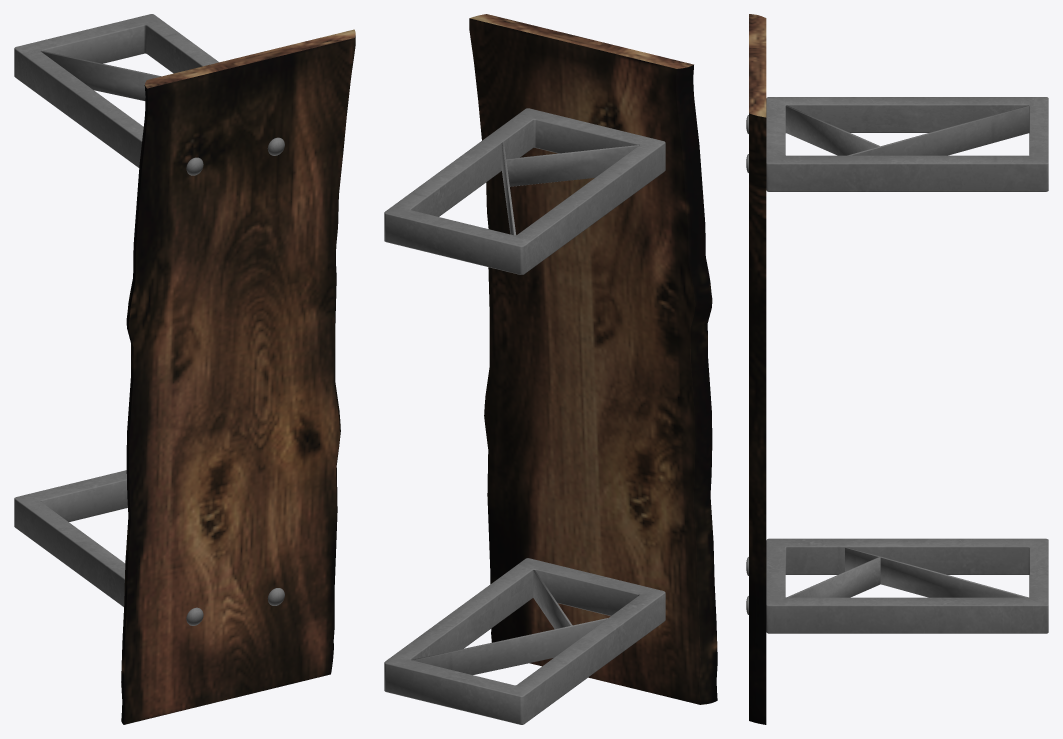
File: Table LOFT Brutal N130624.obj
The picture shows the model from 3 angles, left to right: view 1: azimuth 30°, elevation 25°; view 2: azimuth 150°, elevation 25°; view 3: azimuth 270°, elevation 25°; orthographic projection.
Parts seen in each view (by area): view 1: Box003, Object001; view 2: Box003, Object001; view 3: Object001, Box003.
Part boxes in pixels (left/top/right/bottom): Box003: left=121, top=29, right=355, bottom=724; Object001: left=14, top=14, right=284, bottom=625; Box003: left=469, top=14, right=717, bottom=704; Object001: left=384, top=108, right=665, bottom=724; Object001: left=746, top=97, right=1048, bottom=633; Box003: left=749, top=14, right=766, bottom=724.
Size of the model in its own units: 0.6369 by 1.6 by 0.7087.
Materials: 2 (2 with a texture image).
